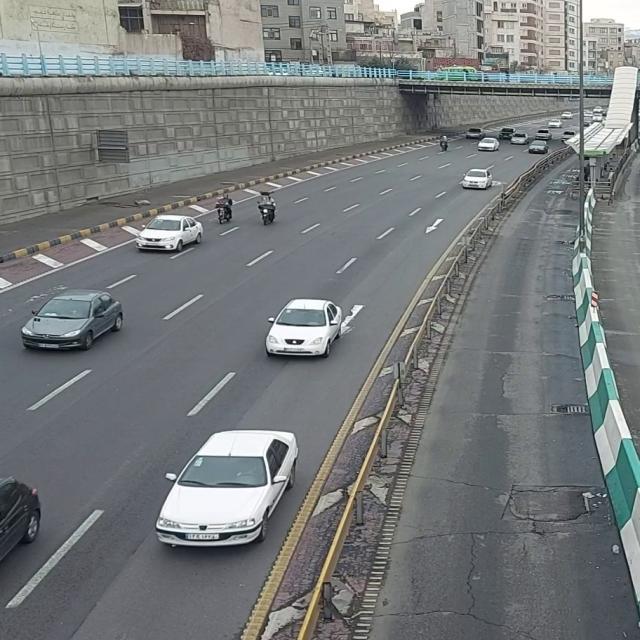Car: (150, 420, 304, 565), (21, 290, 127, 360), (260, 298, 351, 358), (132, 215, 205, 253), (461, 167, 493, 191)
Motorcycle: (255, 189, 279, 229), (212, 189, 237, 225)
